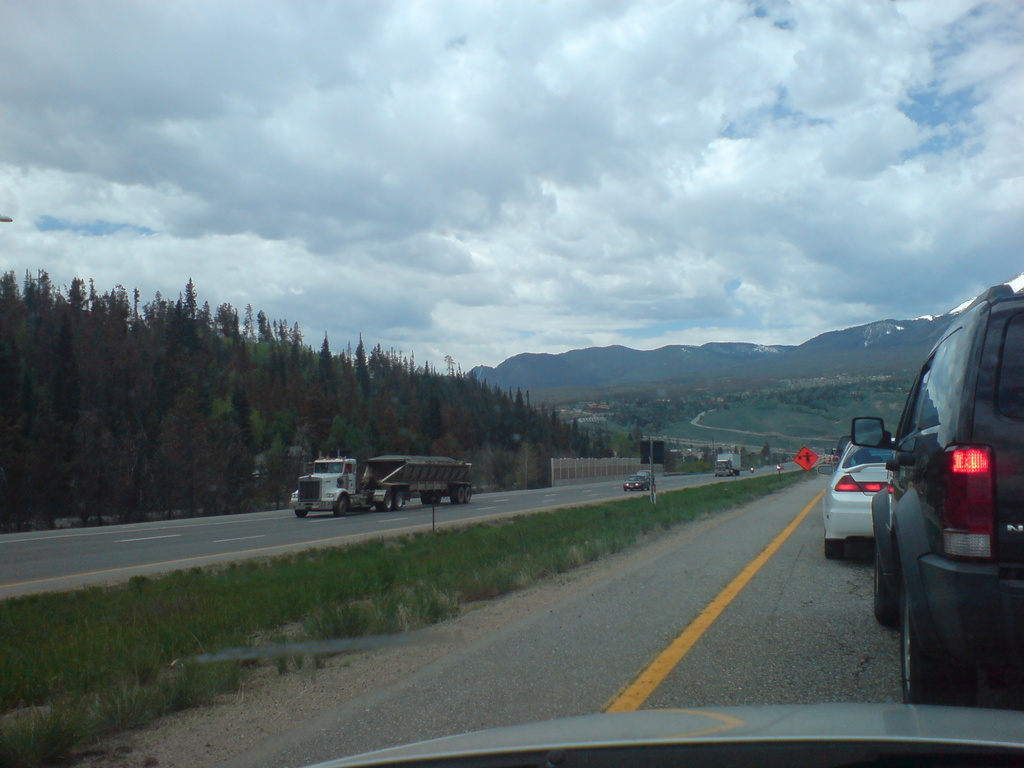mobil: (851, 259, 1024, 768), (816, 416, 911, 578), (618, 469, 663, 499)
